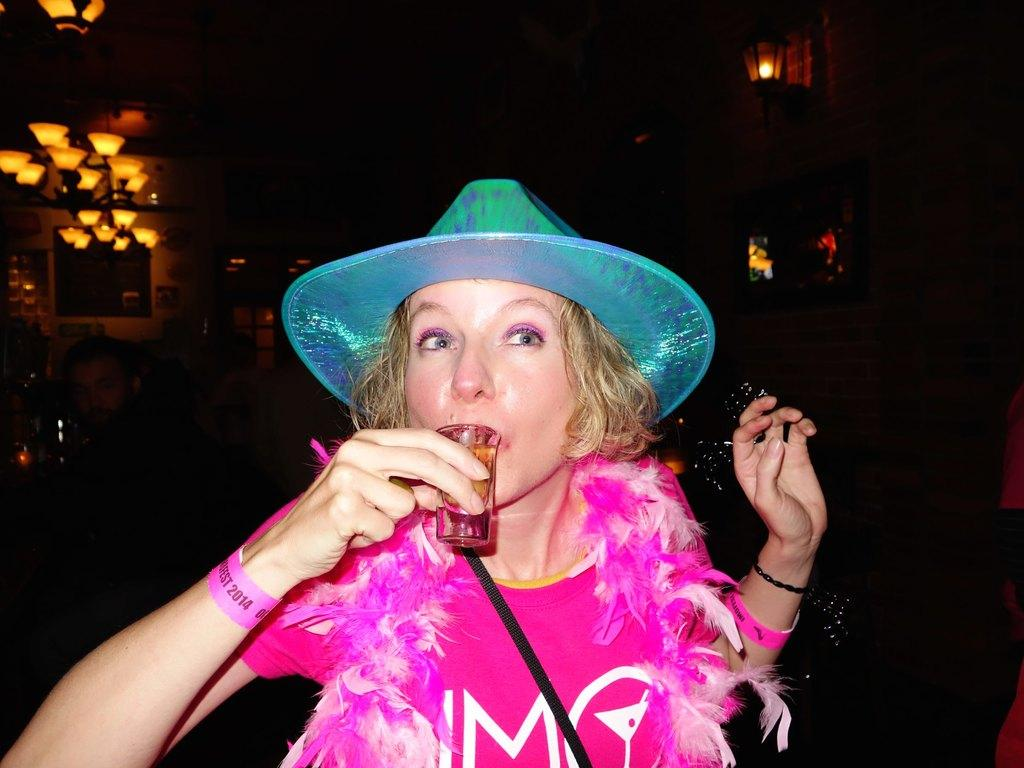Hat: (282, 183, 714, 427)
